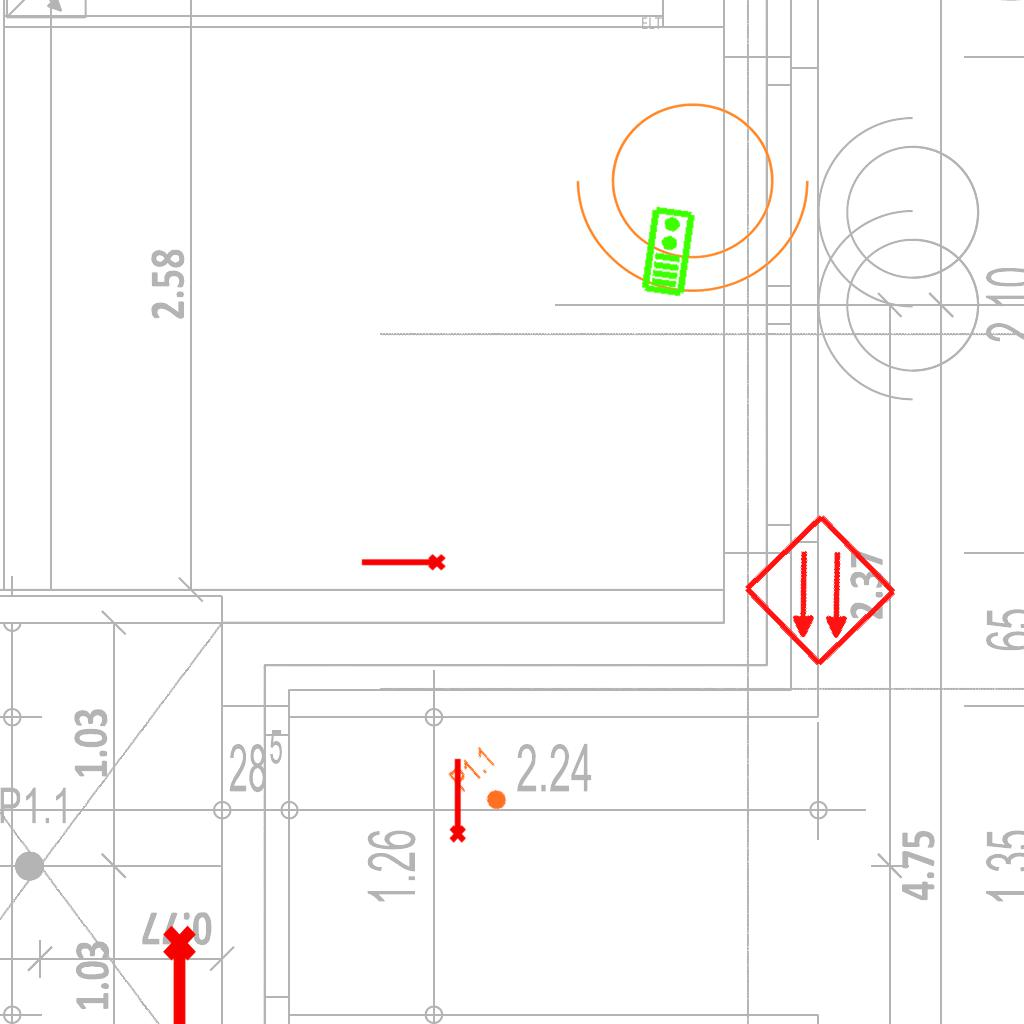ASR_Ansaugoeffnung: (159, 923, 205, 1024), (359, 552, 447, 575), (445, 756, 468, 844)
Downlight_LED_Einbauleuchten_Flur: (445, 743, 523, 823)
Gegensprechanlage_mit_Video: (638, 204, 697, 298)
RMO_Rauchmelder_optischer: (740, 510, 901, 671)
Scheinwerfer_fuer_Alarmbeleuchtung: (567, 78, 831, 303)
